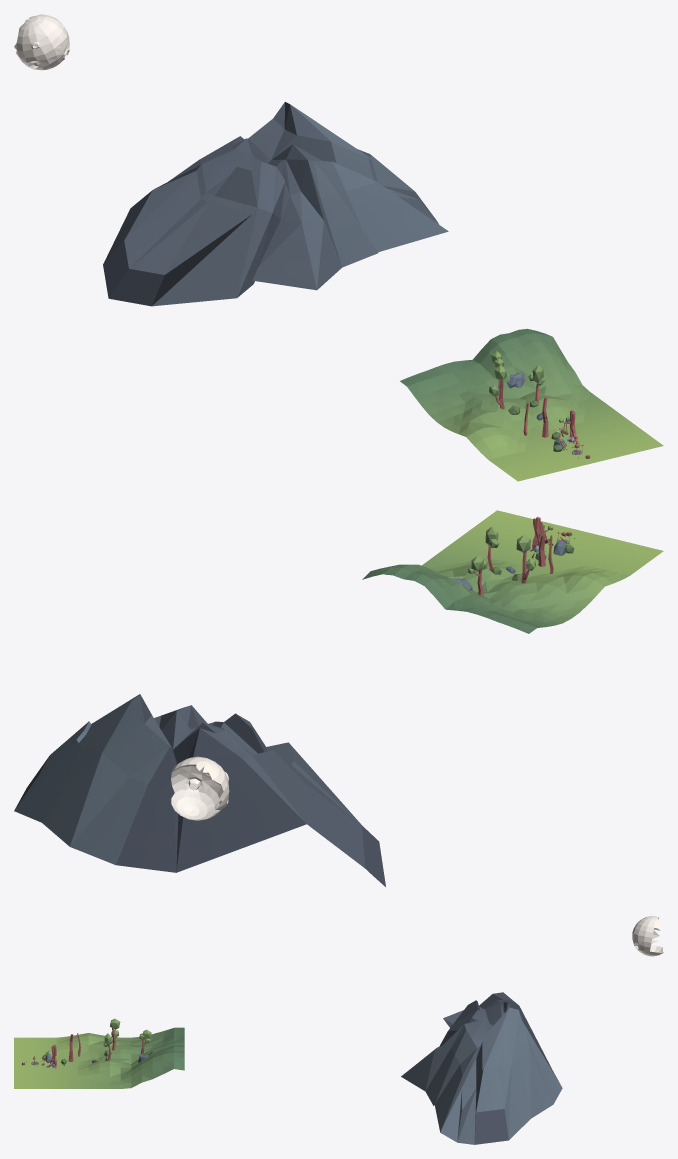
File: Bowl.fbx
The picture shows the model from 3 angles, top to bottom: view 1: azimuth 30°, elevation 25°; view 2: azimuth 150°, elevation 25°; view 3: azimuth 270°, elevation 25°; orthographic projection. The views are drawn at different scales.
Parts seen in each view (by area): view 1: Mountain.003, Ground.006, Moon, Tree.003; view 2: Mountain.003, Ground.006, Moon, Tree.003; view 3: Mountain.003, Ground.006, Moon, Tree.003.
Part boxes in pixels (x1,y1,x2,y2): Mountain.003: (103,102,448,306); Ground.006: (400,328,663,481); Moon: (14,14,69,70); Tree.003: (489,351,548,437); Mountain.003: (14,694,385,886); Ground.006: (362,510,663,633); Moon: (171,756,229,820); Tree.003: (468,522,553,595); Mountain.003: (401,992,562,1144); Ground.006: (14,1027,184,1088); Moon: (632,916,663,956); Tree.003: (68,1018,151,1061).
Size of the model in its own units: 24.77 by 13.9 by 60.
